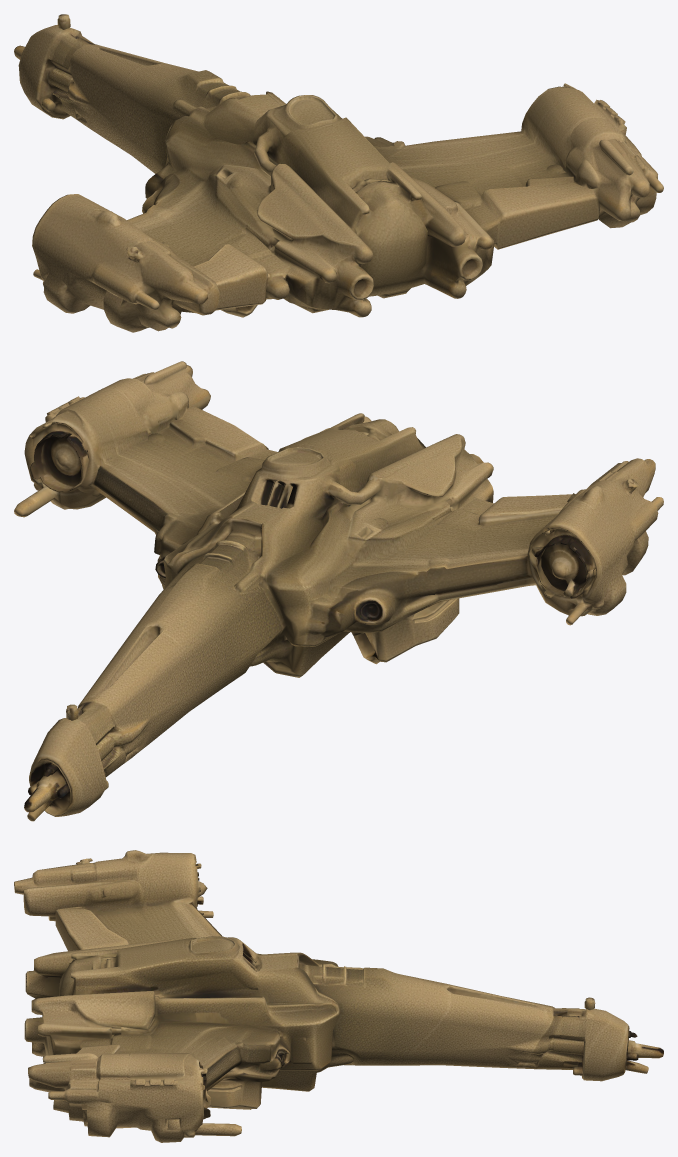
Rendered from ship1.glb.
The picture shows the model from 3 angles, top to bottom: view 1: azimuth 30°, elevation 25°; view 2: azimuth 150°, elevation 25°; view 3: azimuth 270°, elevation 25°; orthographic projection. The views are drawn at different scales.
Parts seen in each view (by area): view 1: tripo_node_ac21b834-43e3-438f-8ce2-b96a70acb9db; view 2: tripo_node_ac21b834-43e3-438f-8ce2-b96a70acb9db; view 3: tripo_node_ac21b834-43e3-438f-8ce2-b96a70acb9db.
Boxes of the visible parts, left/top/right/bottom form: tripo_node_ac21b834-43e3-438f-8ce2-b96a70acb9db: left=14, top=14, right=663, bottom=332; tripo_node_ac21b834-43e3-438f-8ce2-b96a70acb9db: left=14, top=361, right=663, bottom=821; tripo_node_ac21b834-43e3-438f-8ce2-b96a70acb9db: left=14, top=850, right=663, bottom=1142.
Size of the model in its own units: 0.8353 by 0.249 by 1.02.
Materials: 1 (1 with a texture image).
